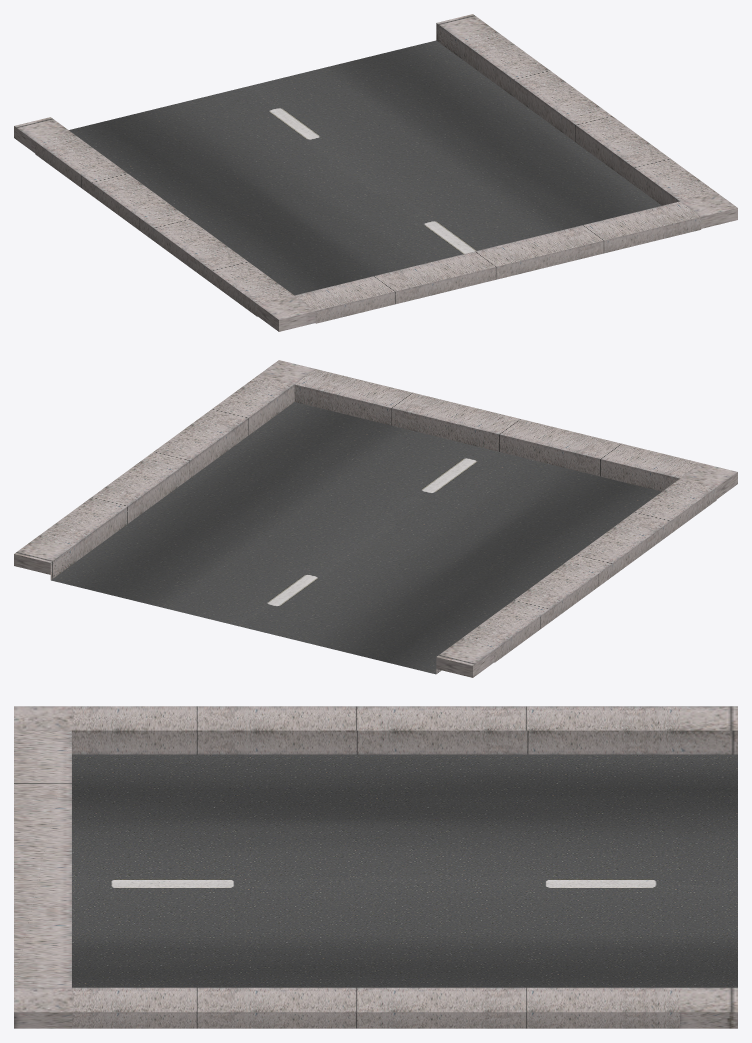
Rendered from road segment C.FBX.
The picture shows the model from 3 angles, top to bottom: view 1: azimuth 30°, elevation 25°; view 2: azimuth 150°, elevation 25°; view 3: azimuth 270°, elevation 25°; orthographic projection. The views are drawn at different scales.
Visible parts, largest first — view 1: Box003; view 2: Box003; view 3: Box003.
Part boxes in pixels (x1,y1,x2,y2): Box003: [14, 14, 737, 331]; Box003: [14, 360, 737, 677]; Box003: [14, 706, 737, 1028].
Bounding box in the file's own units: 24 × 0.8736 × 24.
